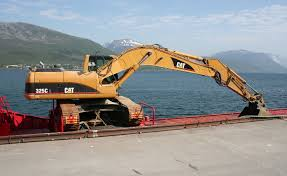excavator: (22, 44, 270, 126)
